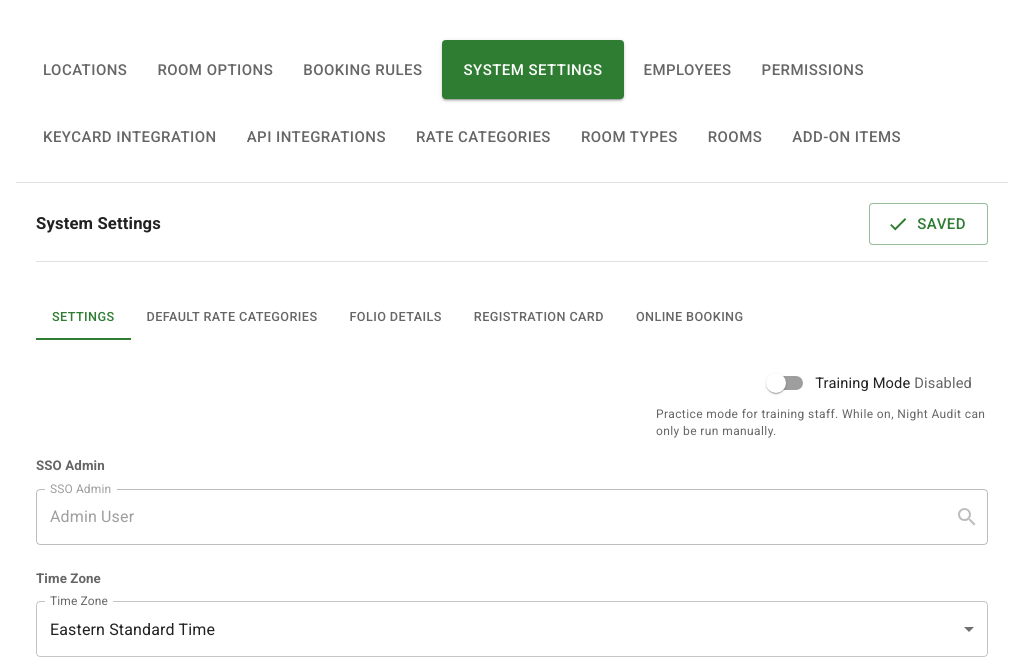
Scenario: Registration Card preview dialog › shows only the checked items, laid out as the mockup, with the LOGO placeholder
Click the tab "Registration Card". click: (539, 316)
box: top-left (458, 292), bottom-right (620, 340)
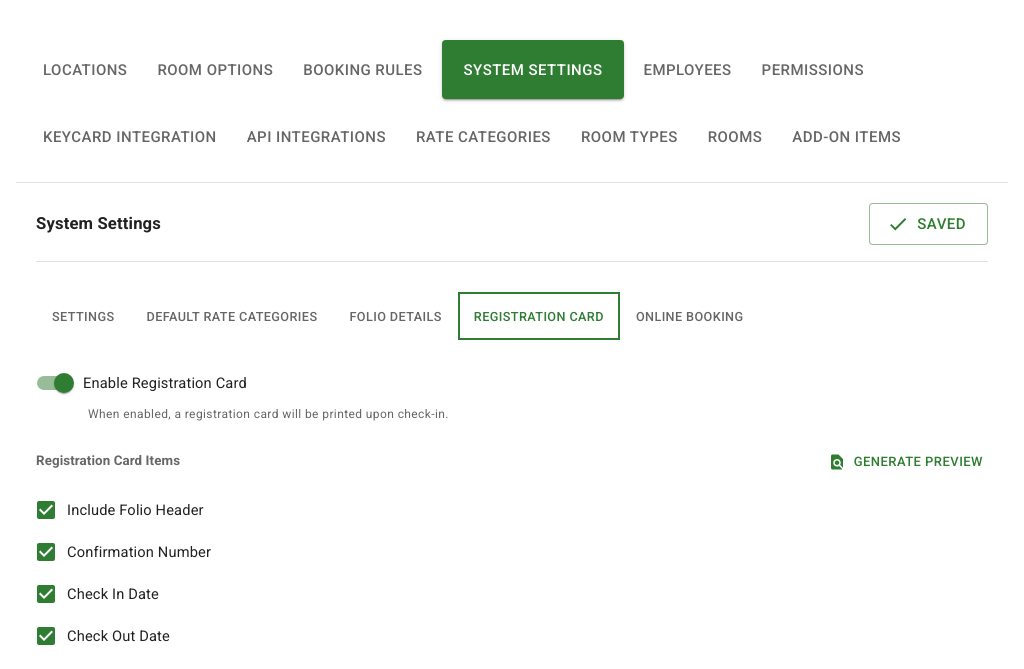
Click the button "Generate Preview". click: (906, 462)
box: top-left (825, 447), bottom-right (988, 477)
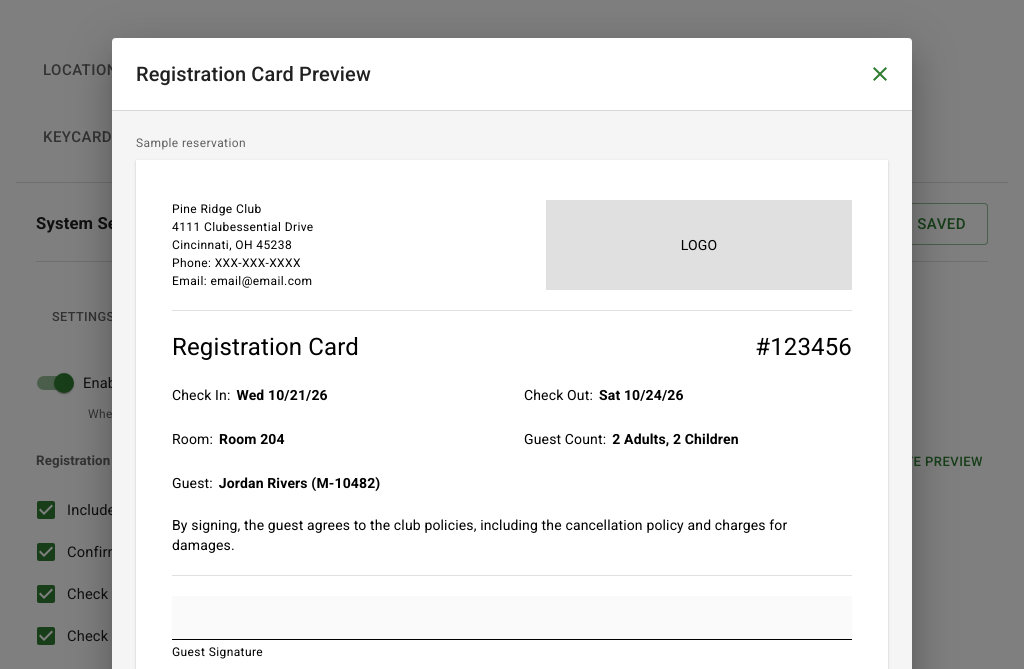
Result: the text "Pine Ridge Club" is shown at top-left (172, 202), bottom-right (262, 216)
Result: the text "LOGO" is shown at top-left (681, 235), bottom-right (717, 255)
Result: the heading "Registration Card" is shown at top-left (172, 331), bottom-right (359, 363)
